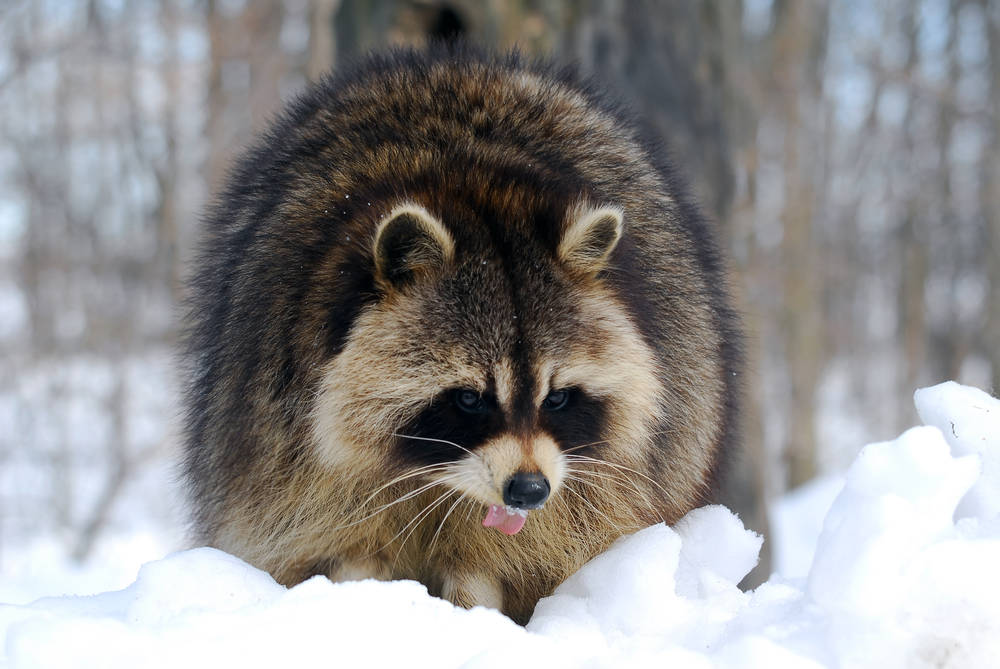raccoon: (169, 38, 753, 641)
